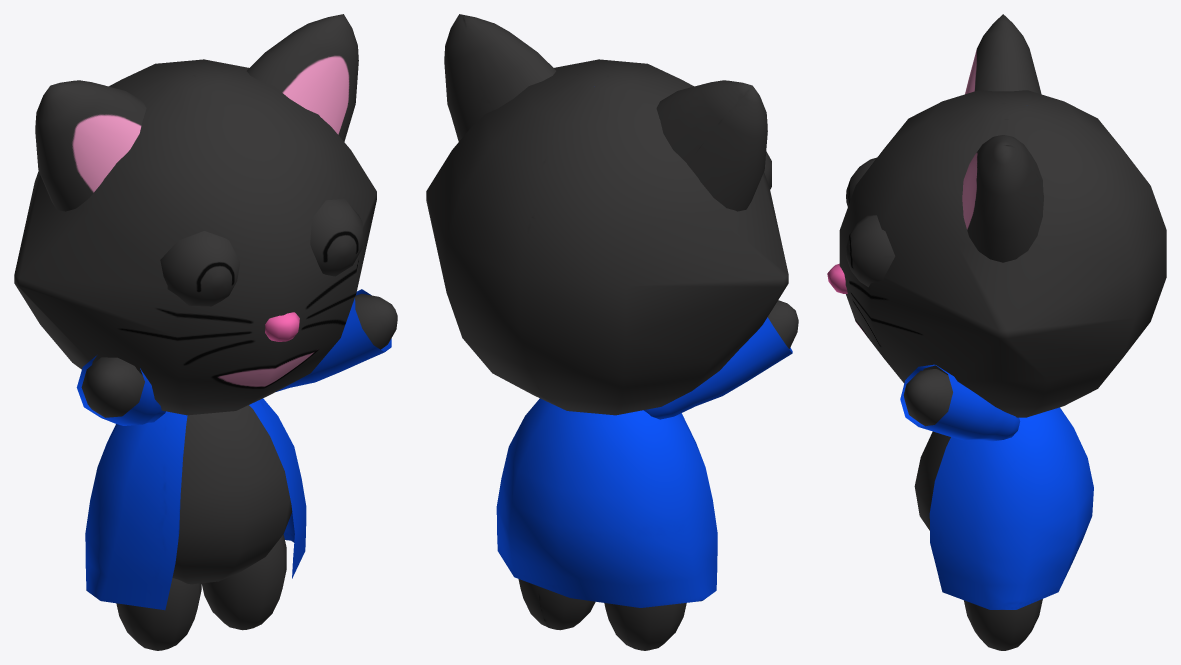
The model's file is Cat_Happy_Model.fbx.
3 views of the same model, side by side, from view 1: azimuth 30°, elevation 25°; view 2: azimuth 150°, elevation 25°; view 3: azimuth 270°, elevation 25° (orthographic). The views are drawn at different scales.
Visible parts, largest first — view 1: Body; view 2: Body; view 3: Body.
Part boxes in pixels (left/top/right/bottom): Body: left=14, top=14, right=397, bottom=650; Body: left=426, top=14, right=798, bottom=650; Body: left=827, top=14, right=1166, bottom=650.
Size of the model in its own units: 65.56 by 103 by 58.08.
